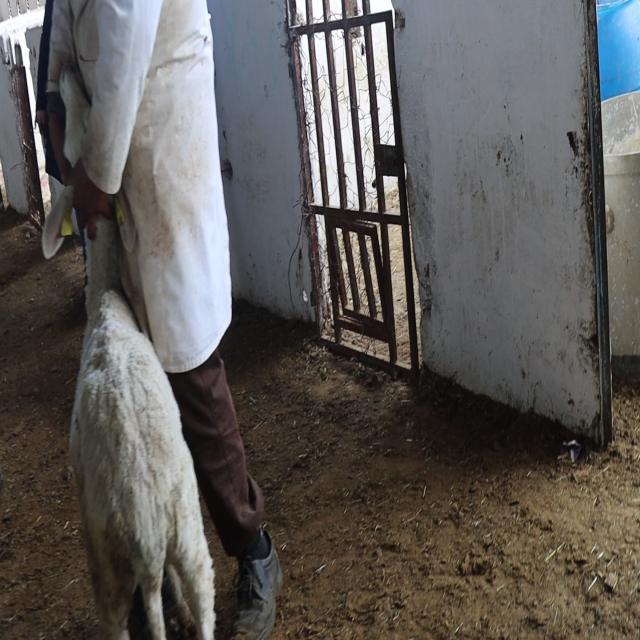Score_1: (69, 220, 215, 639)
